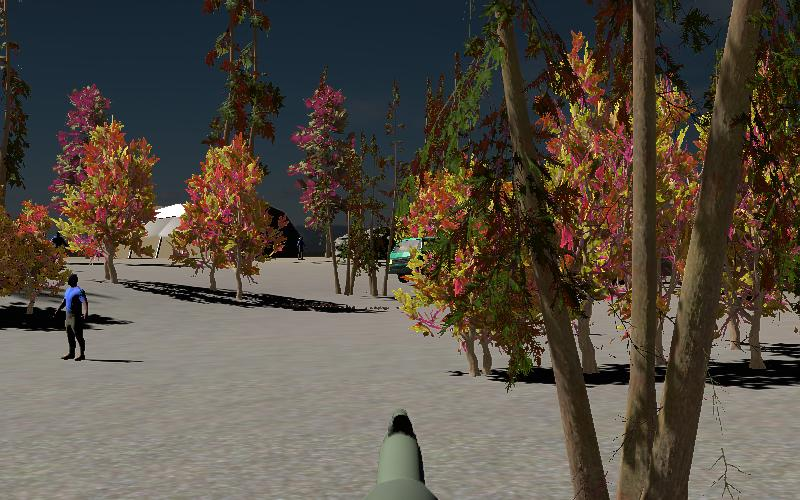Human: (54, 272, 89, 362)
